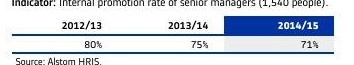table: (0, 0, 354, 65)
